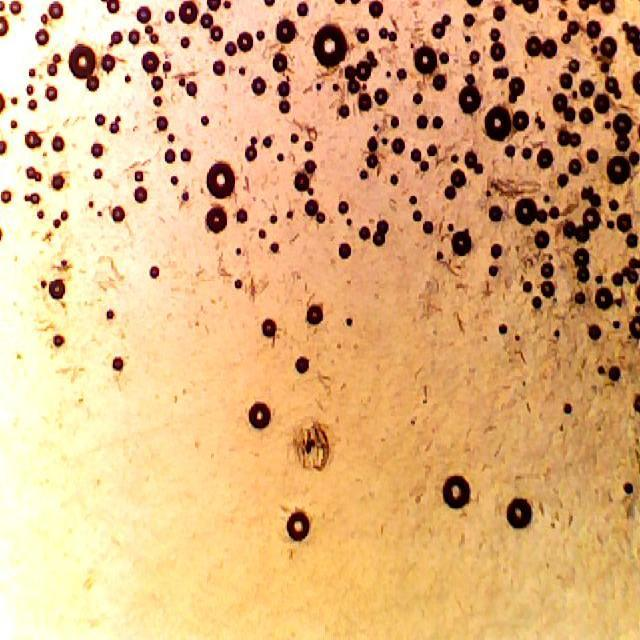microbeads: (309, 22, 347, 70), (205, 161, 237, 199), (439, 476, 471, 512), (506, 494, 534, 530), (244, 400, 272, 432), (285, 511, 313, 543), (204, 204, 228, 236)
